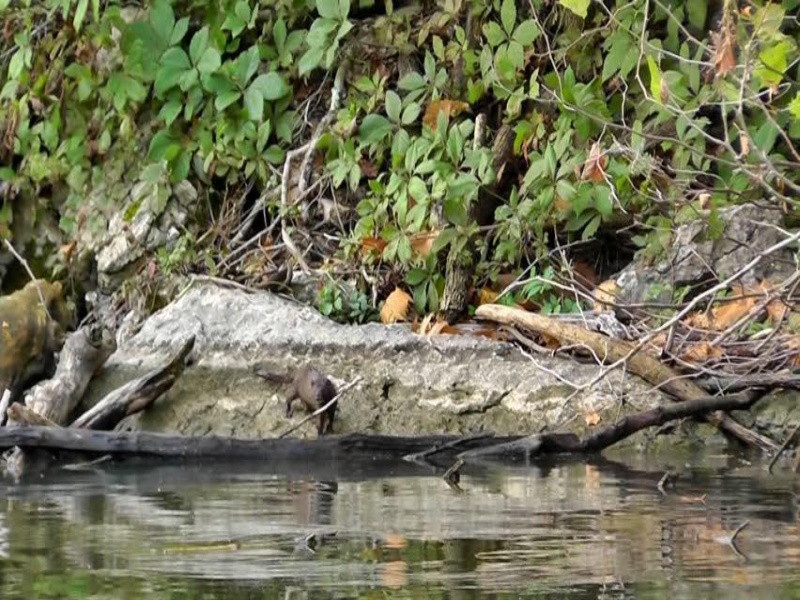minkish: (252, 358, 338, 435)
